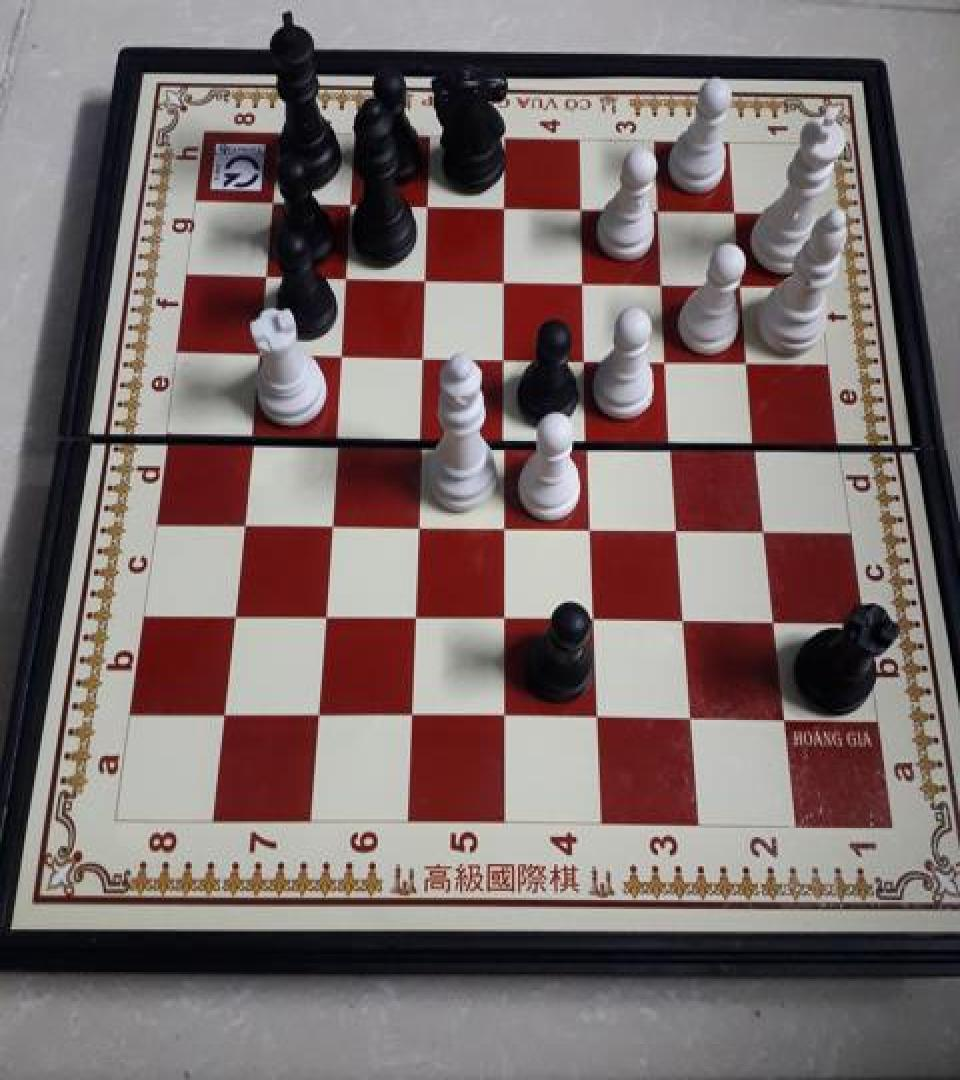xcorner: (491, 696, 523, 733), (585, 697, 617, 734), (678, 697, 710, 734), (771, 698, 803, 735), (209, 693, 241, 729), (304, 694, 336, 730), (398, 695, 430, 731), (219, 595, 251, 631), (310, 596, 342, 632), (401, 598, 433, 634), (492, 598, 524, 634), (583, 598, 615, 634), (673, 600, 705, 636), (762, 601, 794, 637), (228, 502, 260, 538), (317, 504, 349, 540), (405, 505, 437, 541), (493, 506, 525, 542), (580, 508, 612, 544), (668, 508, 700, 544), (755, 510, 787, 546), (237, 415, 269, 451), (323, 418, 355, 454), (408, 418, 440, 454), (493, 420, 525, 456), (578, 421, 610, 457), (663, 422, 695, 458), (747, 423, 779, 459), (245, 334, 277, 370), (328, 335, 360, 371), (411, 336, 443, 372), (494, 338, 526, 374), (576, 340, 608, 376), (658, 341, 690, 377), (740, 342, 772, 378), (253, 258, 285, 294), (334, 259, 366, 295), (414, 260, 446, 296), (494, 262, 526, 298), (574, 263, 606, 299), (654, 264, 686, 300), (733, 266, 765, 302), (260, 184, 292, 220), (339, 187, 371, 223), (417, 188, 449, 224), (495, 189, 527, 225), (572, 191, 604, 227), (727, 194, 759, 230), (650, 193, 682, 228)
